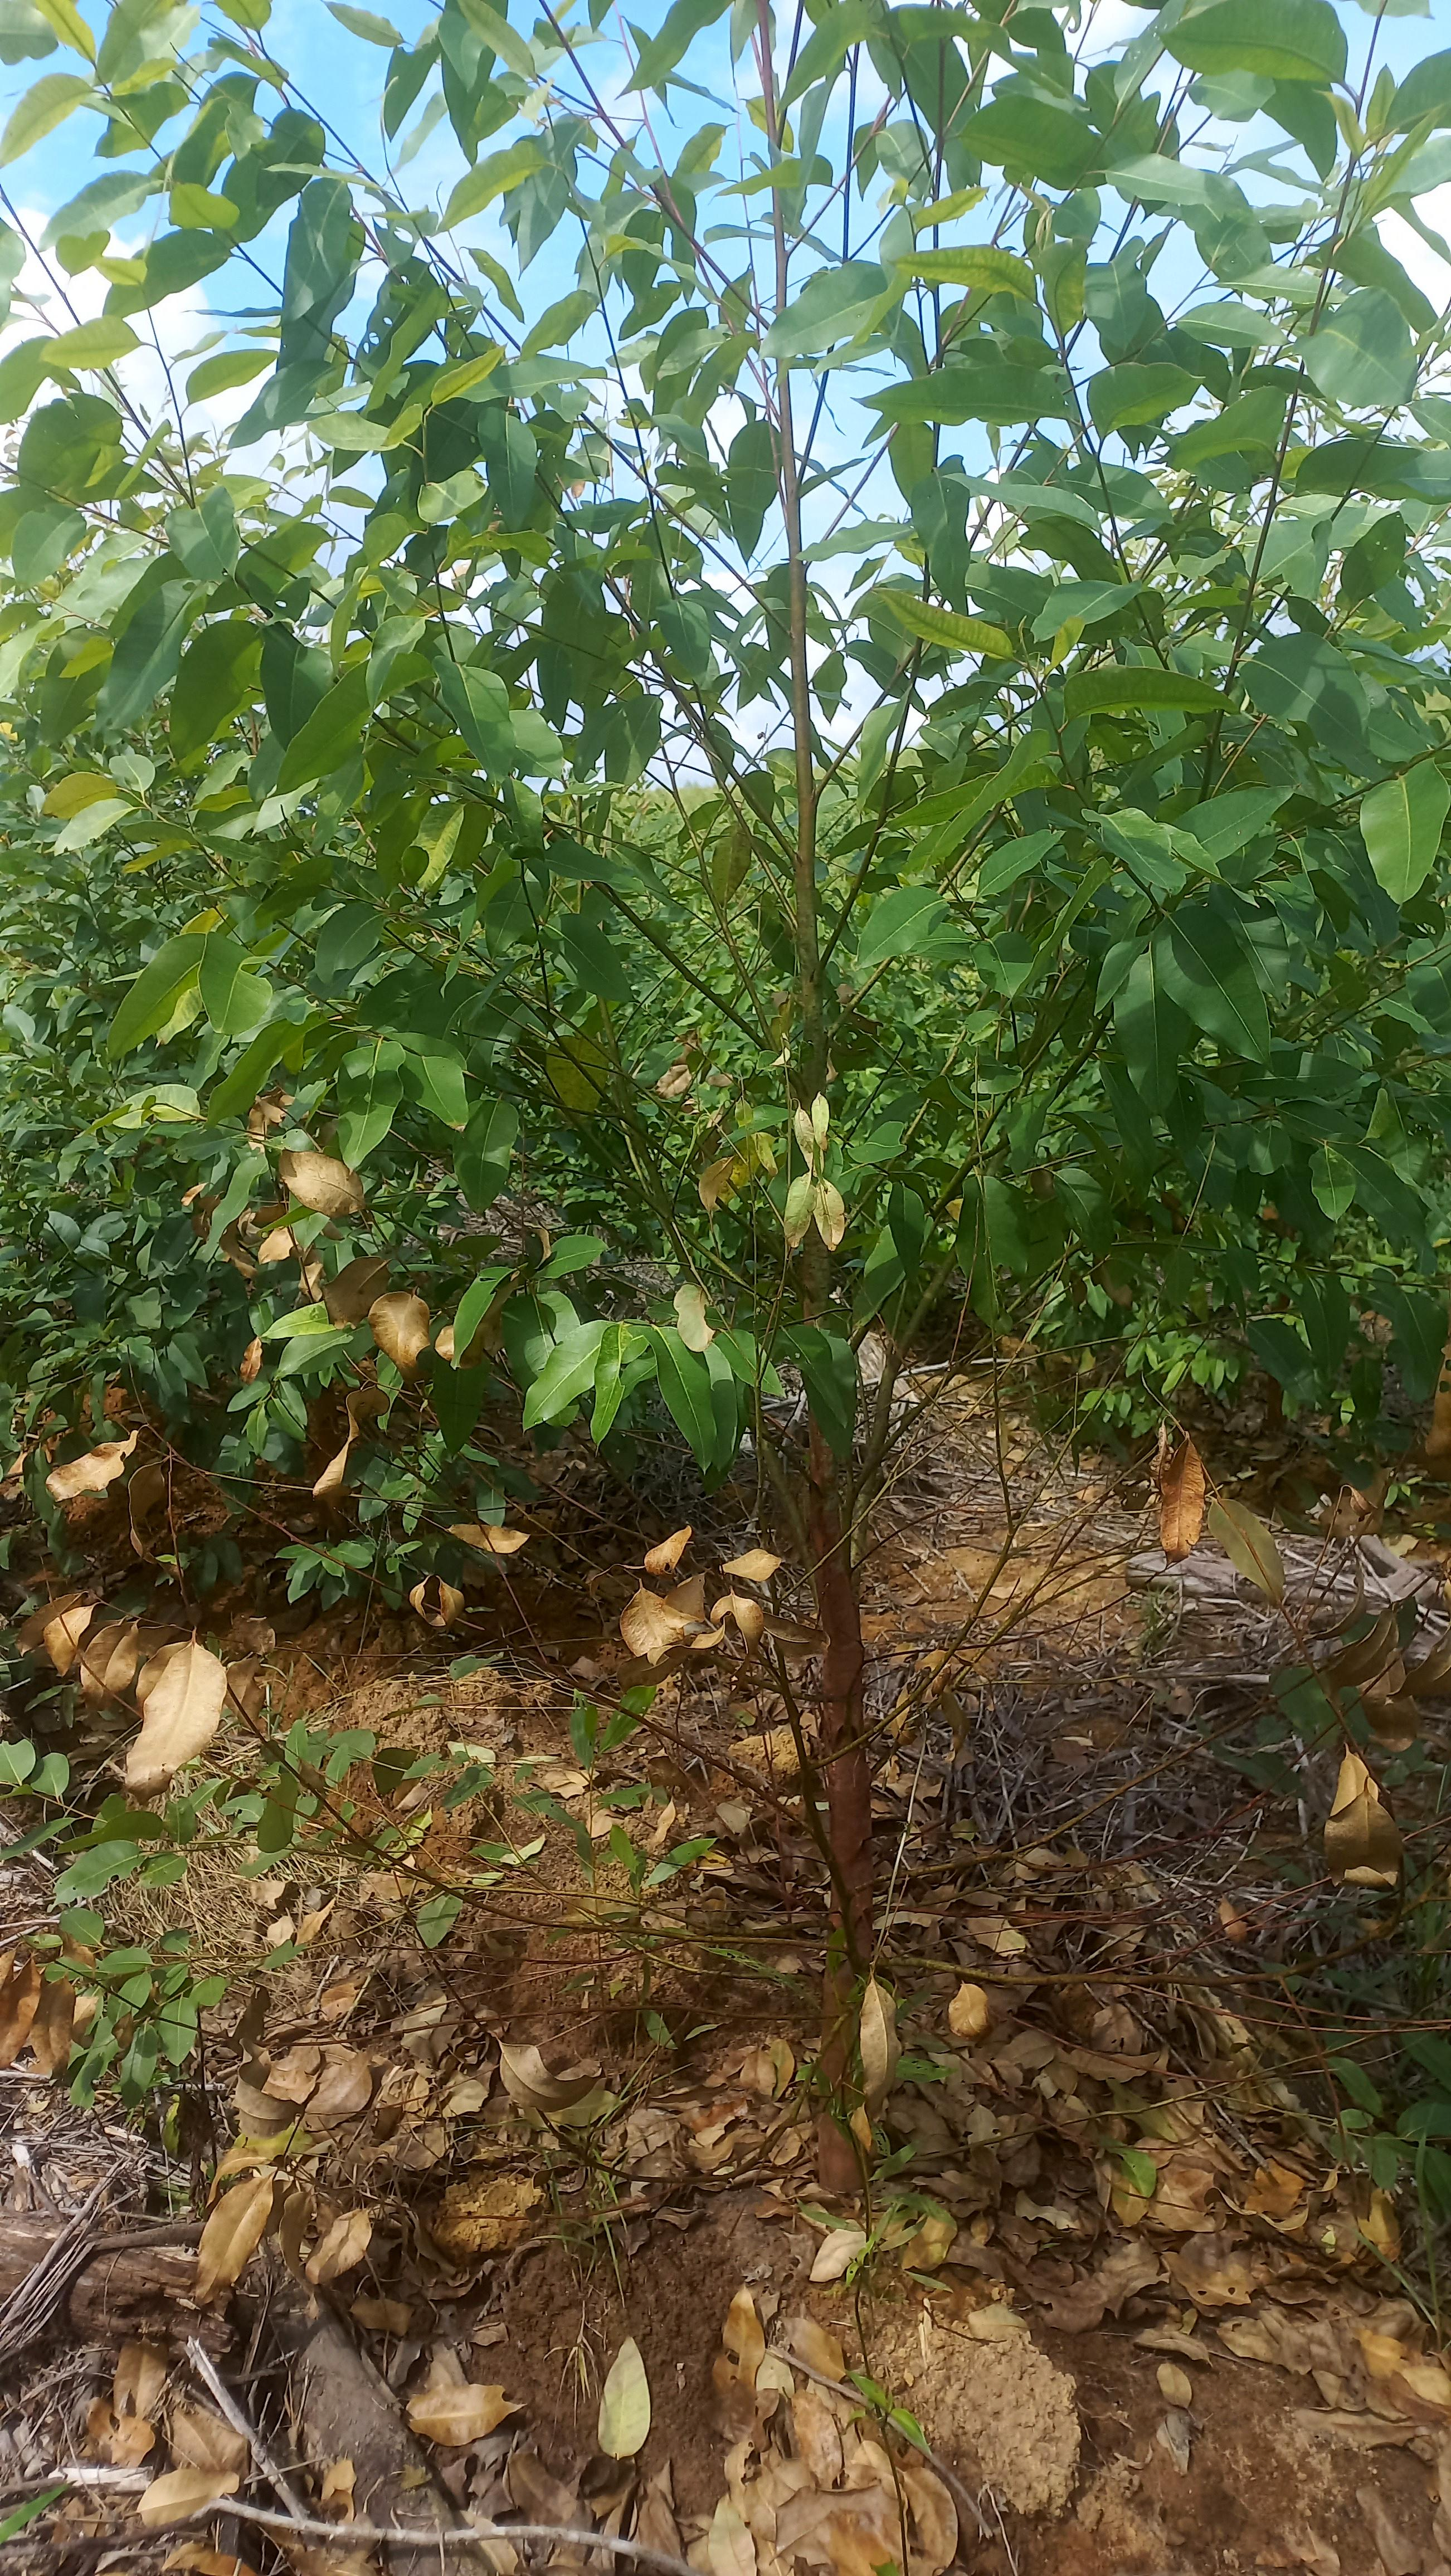Wither Tree Parts: (179, 1077, 541, 1628), (46, 1624, 244, 1801), (625, 1509, 803, 1675), (1125, 1422, 1278, 1610), (779, 1083, 885, 1261)
